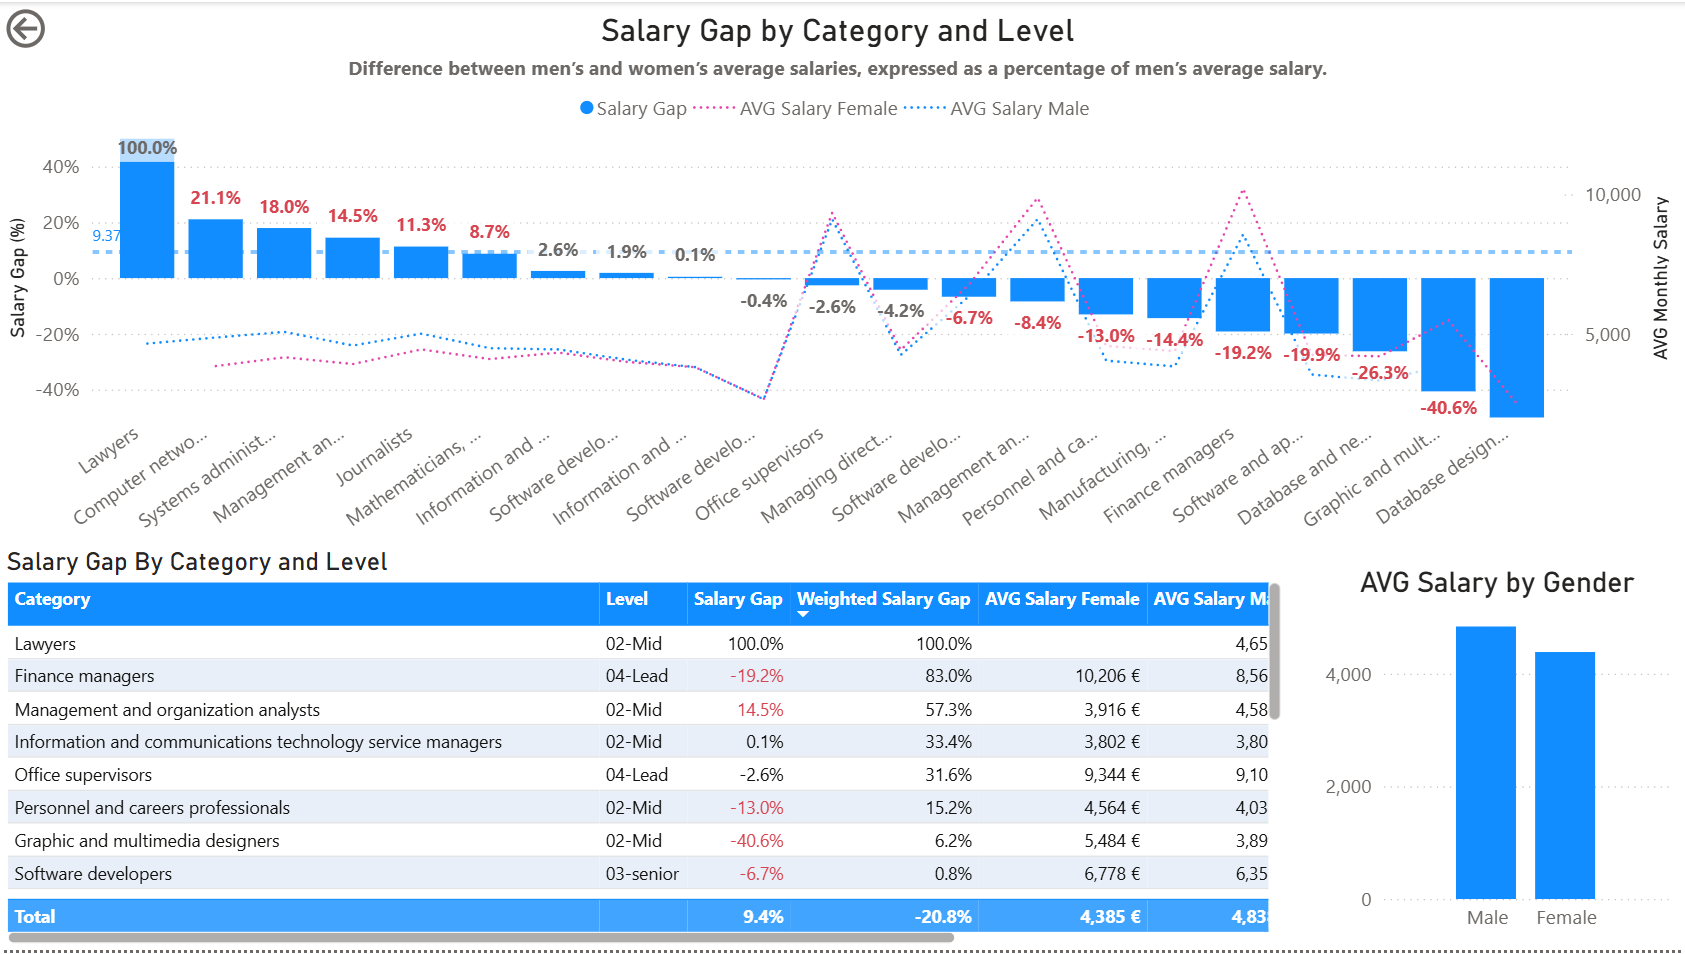

The page's visual inventory and layout, read from the dashboard file:
{"tool":"powerbi","page":{"name":"Salary Gap by Category","canvas":[1280,720],"ordinal":6},"visuals":[{"type":"lineClusteredColumnComboChart","title":"Salary Gap by Category and Level","fields":{"Category":["Contract_Table.Category and Level"],"Y":["Salary_Table.Salary gap"],"Y2":["Salary_Table.Avg Salary Female","Salary_Table.Avg Salary Man"]},"box":[0,6.8,1272.4,406.7],"z":0},{"type":"tableEx","title":"Salary Gap By Category and Level","fields":{"Values":["Contract_Table.Category","Contract_Table.Level","Salary_Table.Salary gap","Salary_Table.Weighted Salary Gap","Salary_Table.Avg Salary Female","Salary_Table.Avg Salary Man","Contract_Table.No of Female","Contract_Table.No of Male","Contract_Table.Employee_count"]},"box":[0,413.5,977.4,306.4],"z":1000},{"type":"clusteredColumnChart","title":"AVG Salary by Gender","fields":{"Category":["Contract_Table.Gender"],"Y":["Salary_Table.Normalized Avg Salary"]},"box":[1001.2,428.1,271.3,286.6],"z":2000},{"type":"actionButton","box":[0,0,39,40],"z":3000}]}

Visuals, with their boxes in screenshot pixels (x1, y1, x2, y2), scaled from the page's 1280x720 canvas onto the 1685x954 screenshot:
"Salary Gap by Category and Level" lineClusteredColumnComboChart: select_region(0, 9, 1675, 548)
"Salary Gap By Category and Level" tableEx: select_region(0, 548, 1287, 953)
"AVG Salary by Gender" clusteredColumnChart: select_region(1318, 567, 1675, 947)
actionButton: select_region(0, 0, 51, 53)
